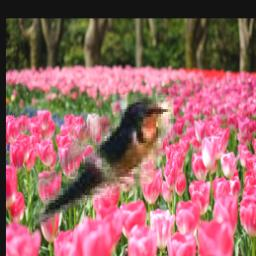Swallow: (32, 95, 175, 226)
